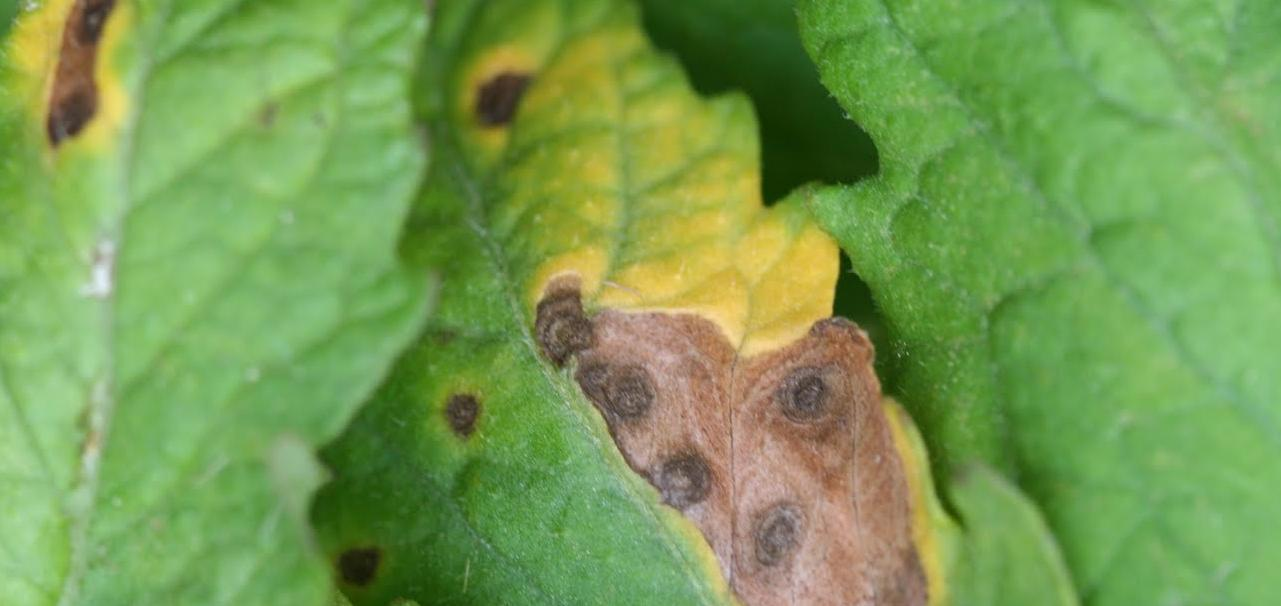Tomato leaf late blight: (250, 0, 1117, 606), (0, 0, 471, 606)
